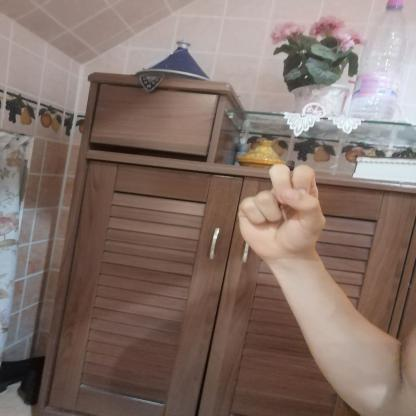QAAF: (221, 152, 347, 269)
